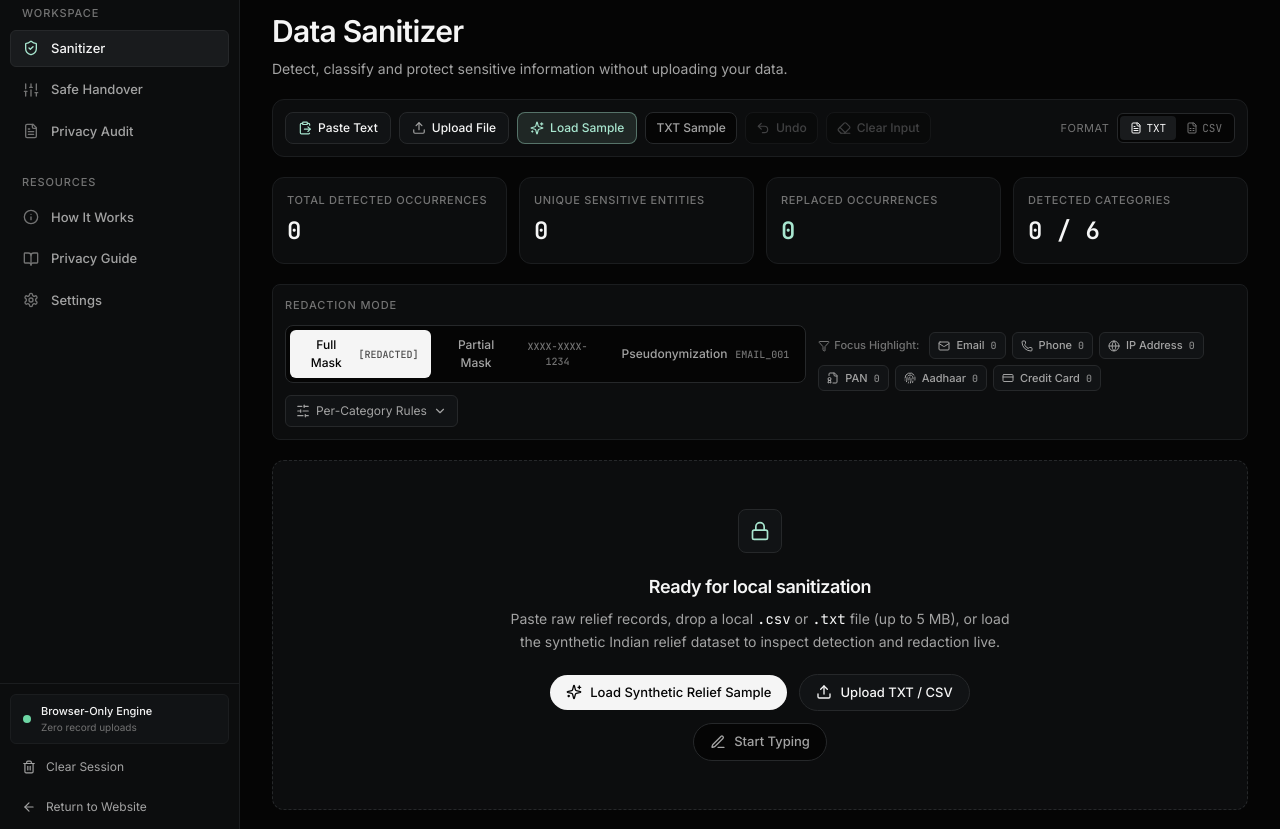
it: Workspace Integration & Rendering Safety › displays HTML/script payloads as inert text nodes without DOM injection
Click the button "Paste Text".
click(338, 128)  # box [285,112,391,144]
(page scrolled)
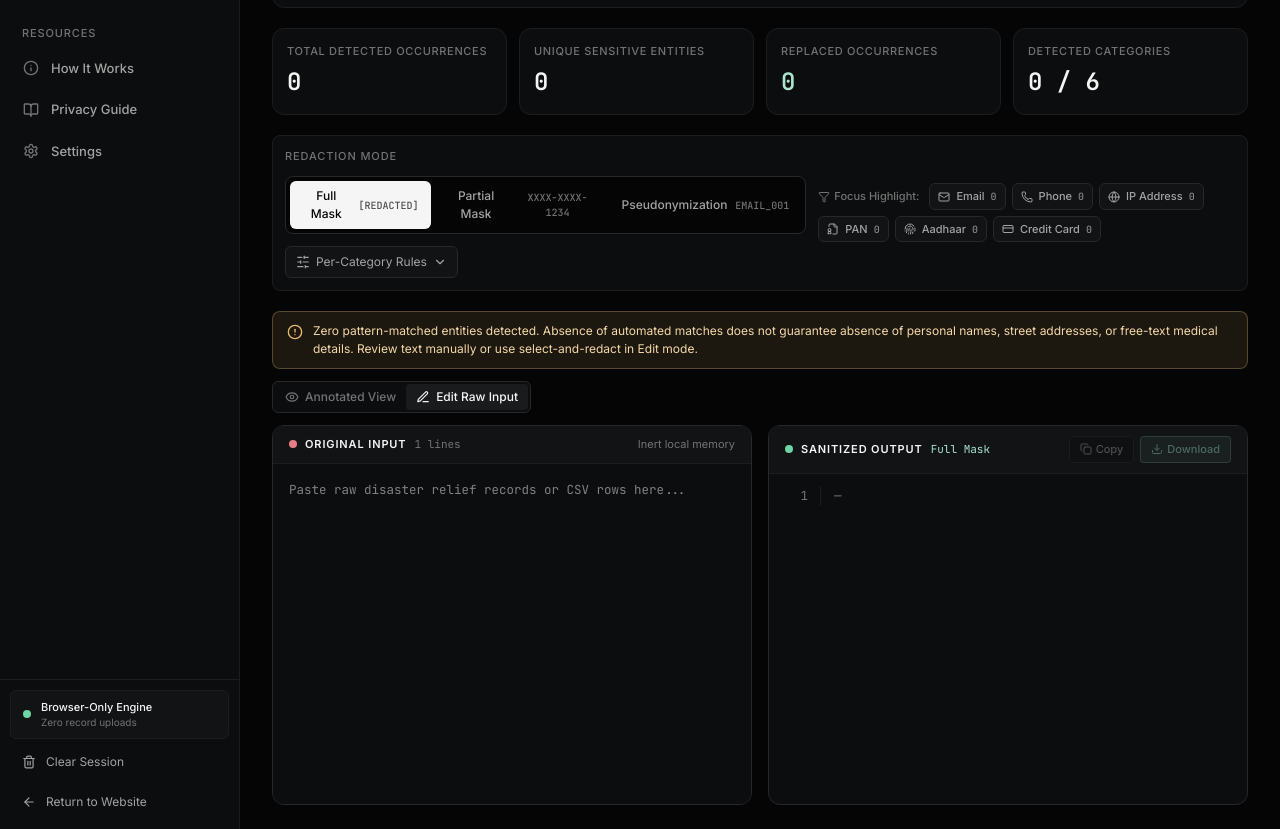
Type "<script>window.__xss=true</script> ravi@example.com" into the text box named "Original raw text or CSV input".
click(512, 634); type("<script>window.__xss=true</script> ravi@example.com")  # box [273,464,751,804]
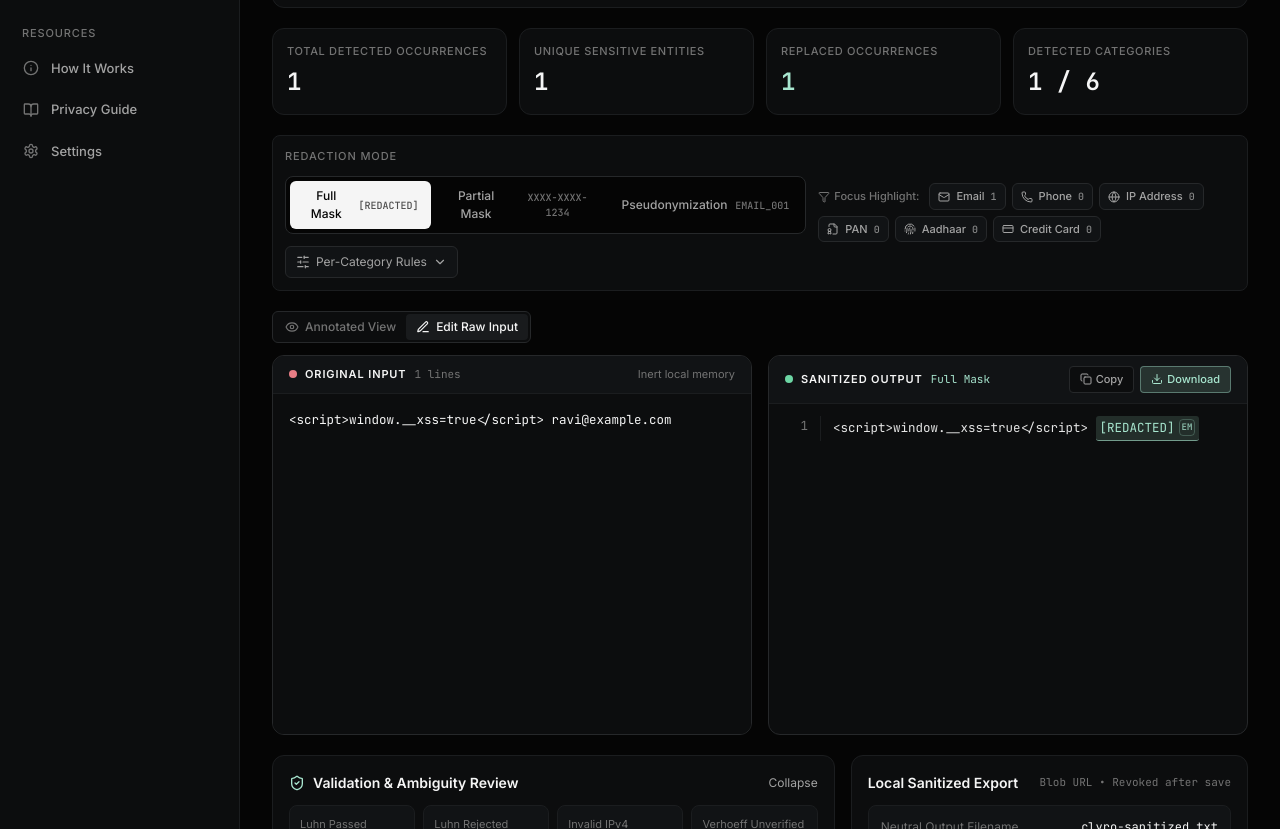
Expected: the element with test id "sanitized-output-text" shows "<script>window.__xss=true</script> [REDACTED]", [833,416,1235,441]
